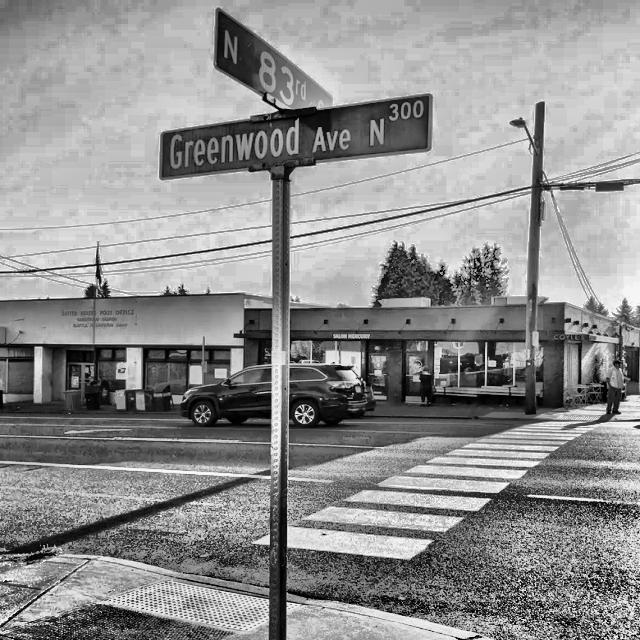crosswalk: (237, 418, 605, 566)
